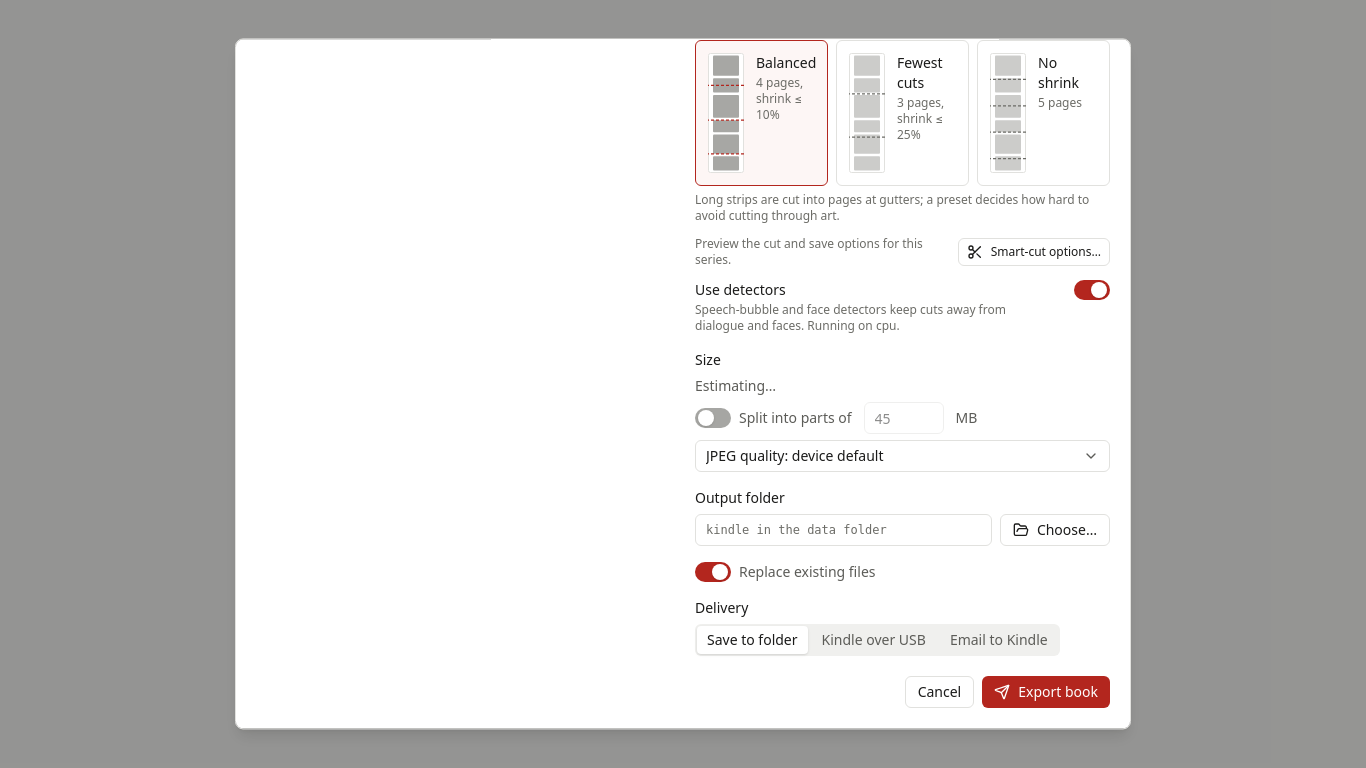
Scenario: export dialog: Try again after a failed export › shows the new failure when the second export fails too
(page scrolled)
Click the button "Export book" at (1046, 692), box [982,676,1110,708]
(page scrolled)
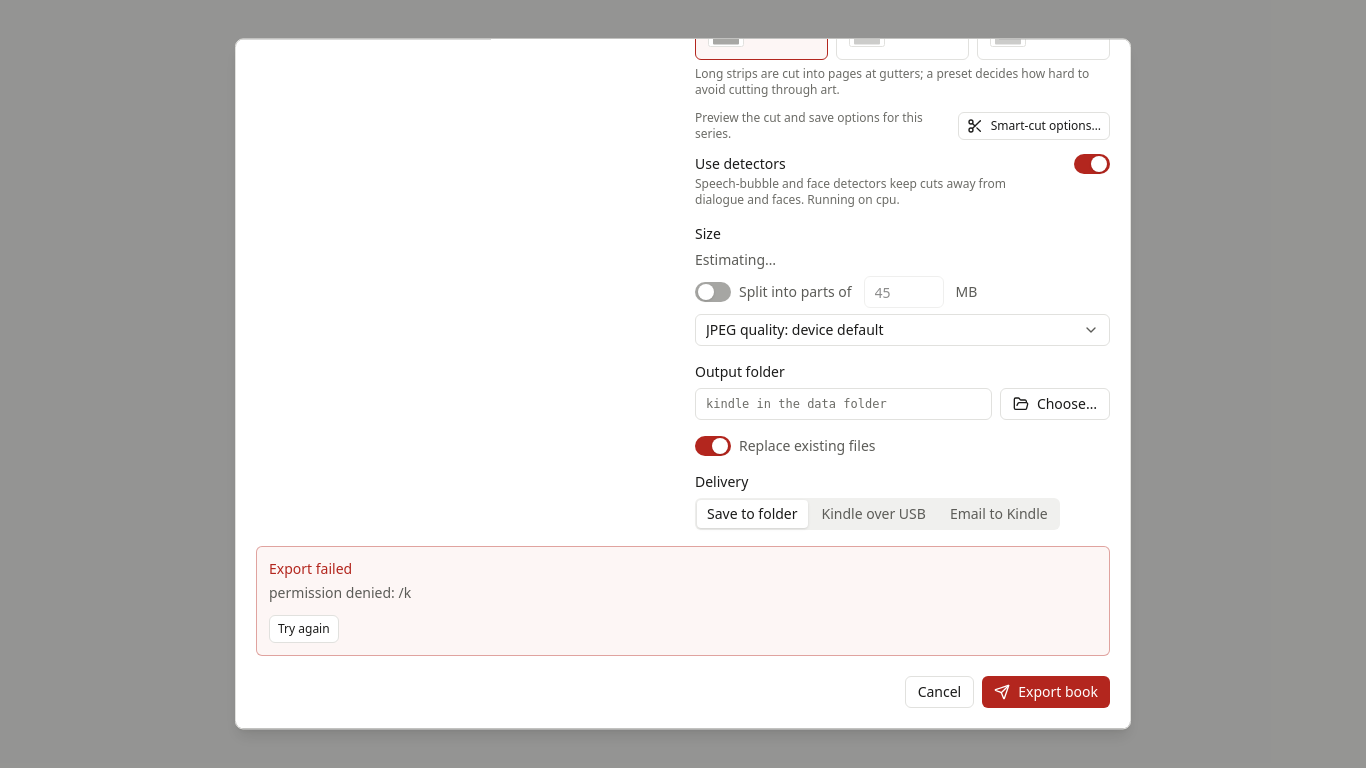
Result: the text "permission denied: /k" is shown at [269,583,411,602]
Result: the button "Try again" is enabled
Click the button "Try again" at (304, 629), box [269,615,339,643]
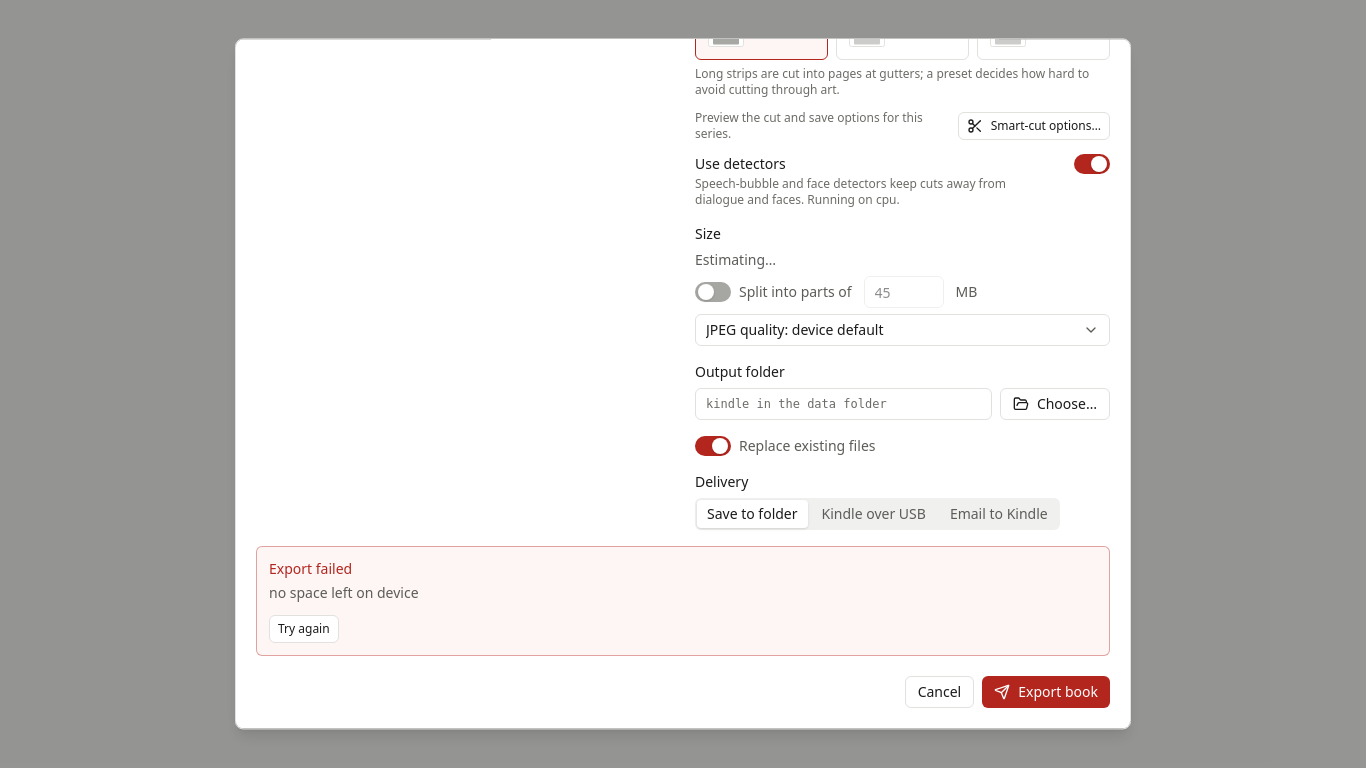
Result: the button "Try again" is shown at [269,615,339,643]
Result: the text "no space left on device" is shown at [269,583,418,602]
